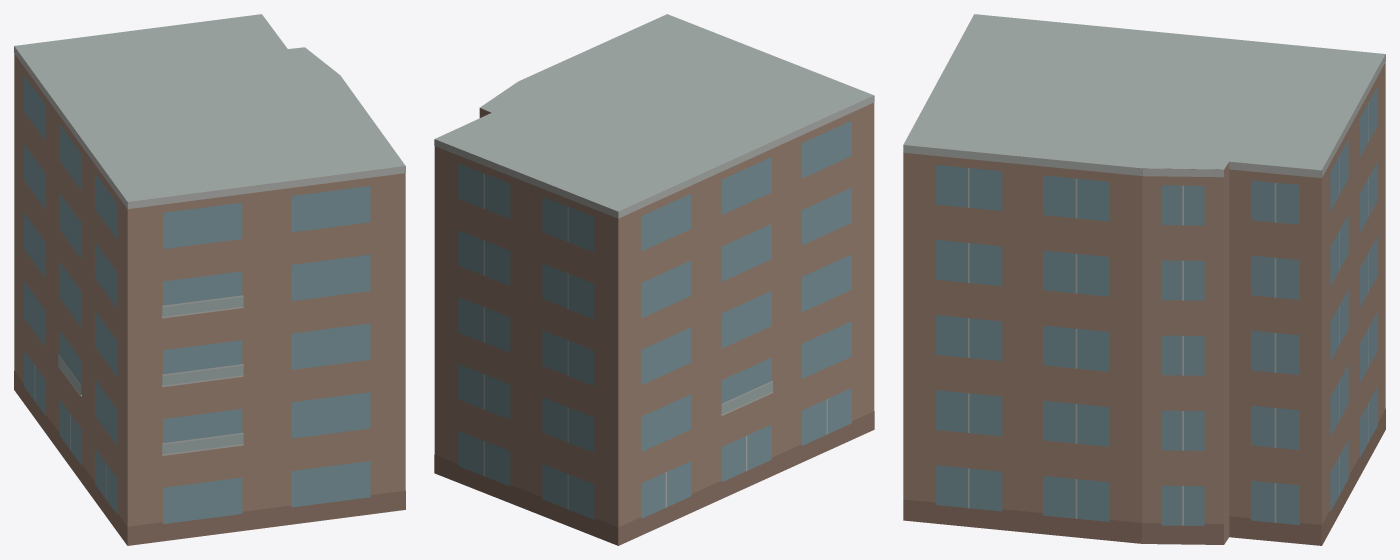
The model's file is survey-upis-32671922.glb.
3 renders of one model, left to right at view 1: azimuth 30°, elevation 25°; view 2: azimuth 150°, elevation 25°; view 3: azimuth 270°, elevation 25°, orthographic. The views are drawn at different scales.
Visible parts, largest first — view 1: survey-upis-32671922.tmp; view 2: survey-upis-32671922.tmp; view 3: survey-upis-32671922.tmp.
Part boxes in pixels (<box>): survey-upis-32671922.tmp: <box>14,14,405,545</box>; survey-upis-32671922.tmp: <box>434,14,874,545</box>; survey-upis-32671922.tmp: <box>903,14,1385,545</box>.
Size of the model in its own units: 10.55 by 11.8 by 13.76.
